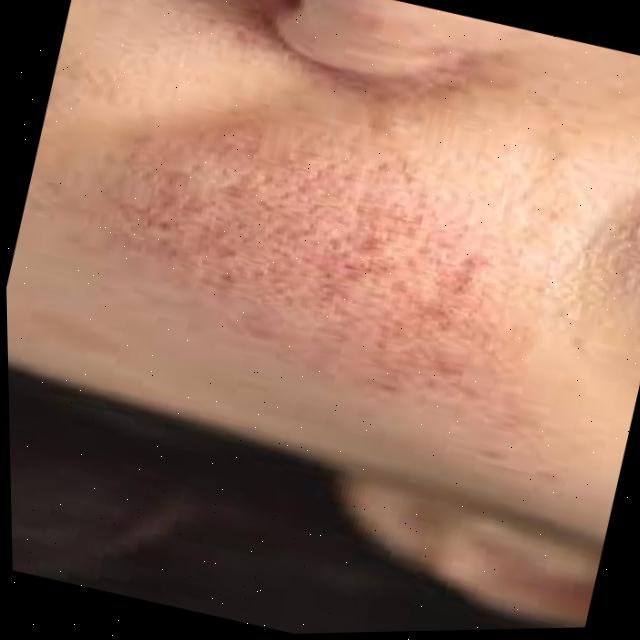Rosacea: (62, 84, 587, 472)
